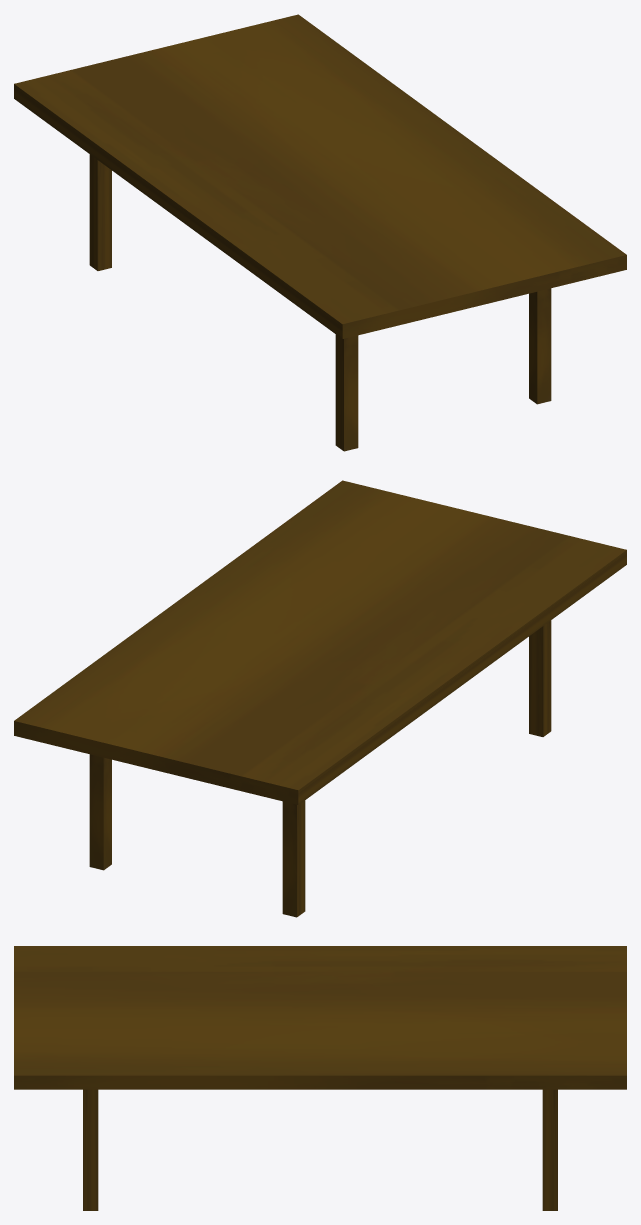
File: table.fbx
3 views of the same model, one above another, from view 1: azimuth 30°, elevation 25°; view 2: azimuth 150°, elevation 25°; view 3: azimuth 270°, elevation 25° (orthographic). The views are drawn at different scales.
Visible parts, largest first — view 1: Cube, Cube.001; view 2: Cube, Cube.001; view 3: Cube, Cube.001.
Boxes of the visible parts, box(x1,y1,x2,y2) form: Cube: box(14, 14, 626, 338); Cube.001: box(89, 154, 551, 451); Cube: box(14, 480, 626, 804); Cube.001: box(89, 620, 551, 917); Cube: box(14, 946, 626, 1089); Cube.001: box(83, 1089, 557, 1210).
Bounding box in the file's own units: 100 × 55 × 200.
